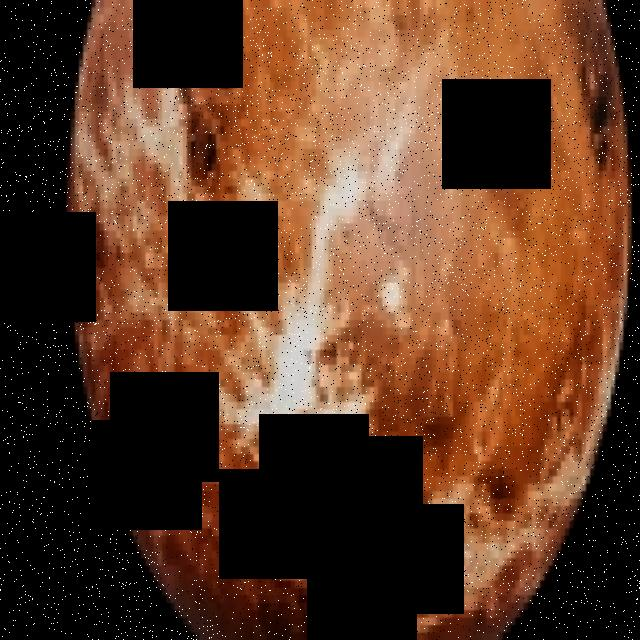Venus: (66, 0, 640, 640)
